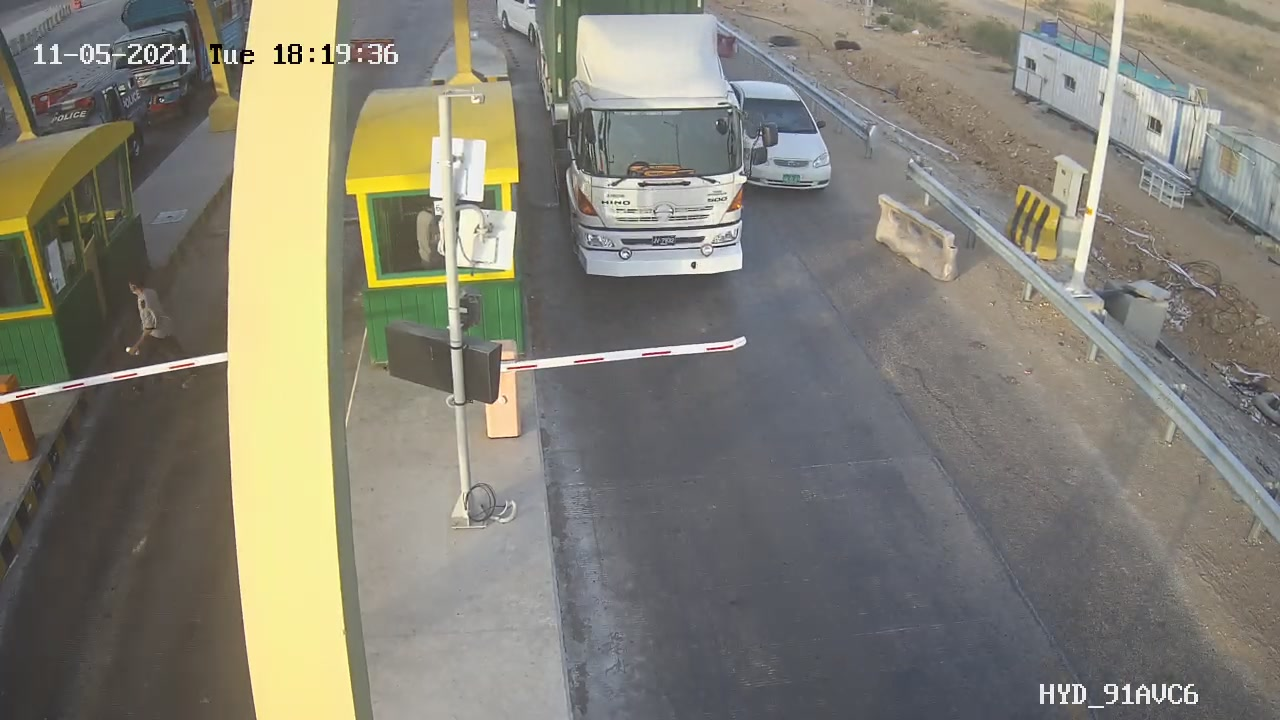F6: (525, 13, 766, 281)
